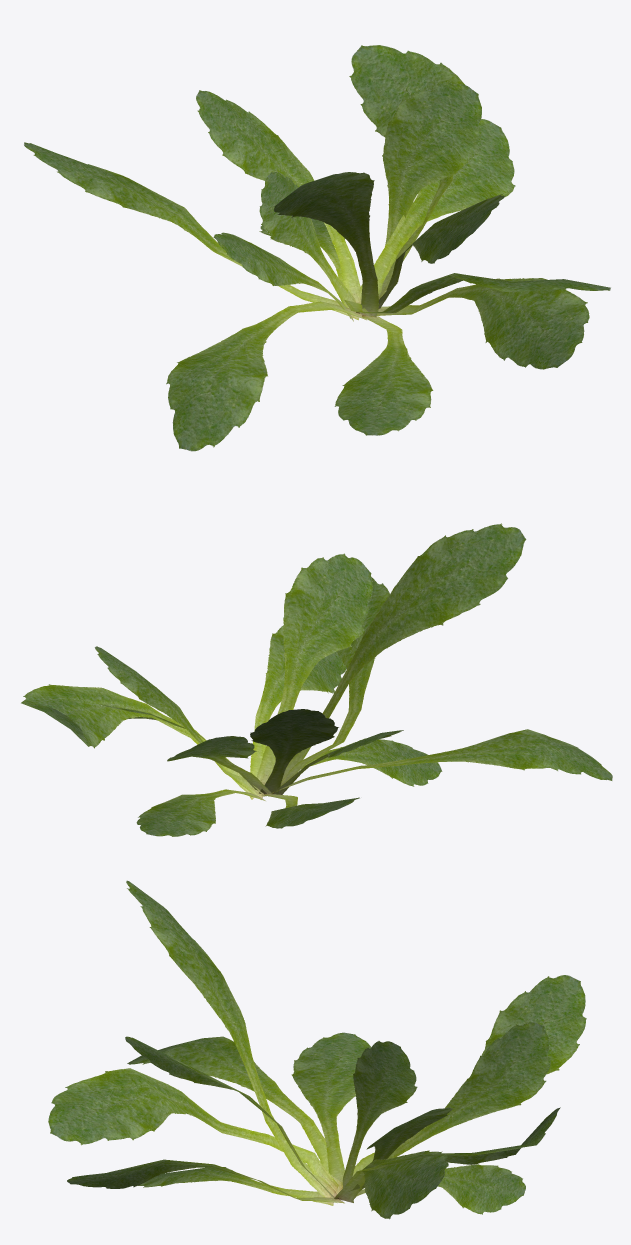
Rendered from daisyA_noFlower_u10cm_tri_decim05.obj.
3 renders of one model, top to bottom at view 1: azimuth 30°, elevation 25°; view 2: azimuth 150°, elevation 25°; view 3: azimuth 270°, elevation 25°, orthographic. The views are drawn at different scales.
Visible parts, largest first — view 1: daisyA; view 2: daisyA; view 3: daisyA.
Boxes of the visible parts, x1,y1,x2,y2 form: daisyA: (24,45,610,451); daisyA: (21,523,612,836); daisyA: (48,880,586,1219).
Size of the model in its own units: 0.9853 by 0.5575 by 1.05.
